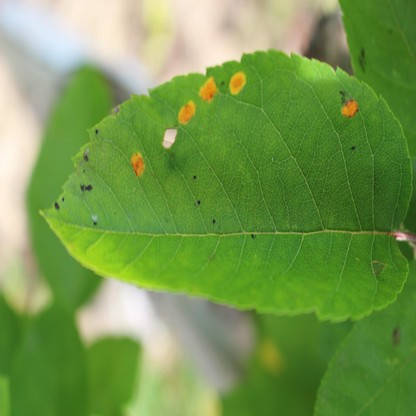rust: (179, 98, 195, 124), (198, 78, 216, 100), (230, 71, 245, 94), (130, 153, 145, 175), (341, 100, 358, 114)
